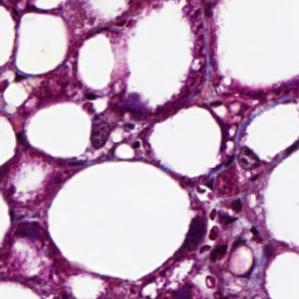inflammation: (189, 187, 245, 259), (111, 117, 143, 154)
